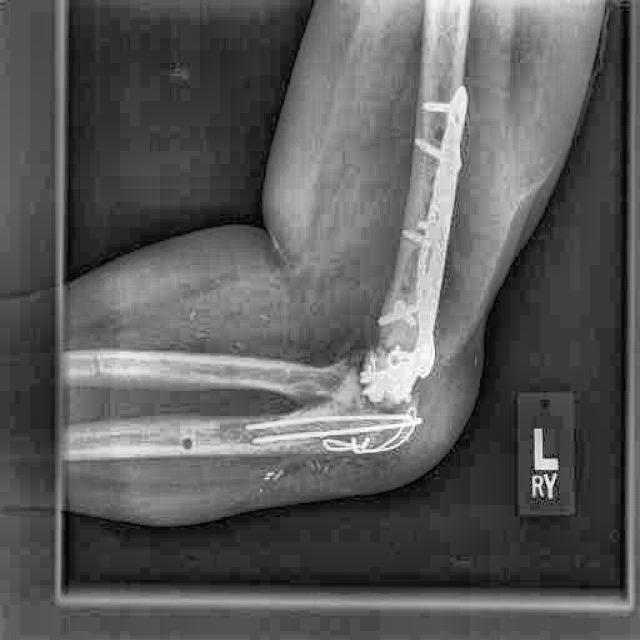elbow positive: (385, 179, 442, 314), (365, 325, 428, 404)
